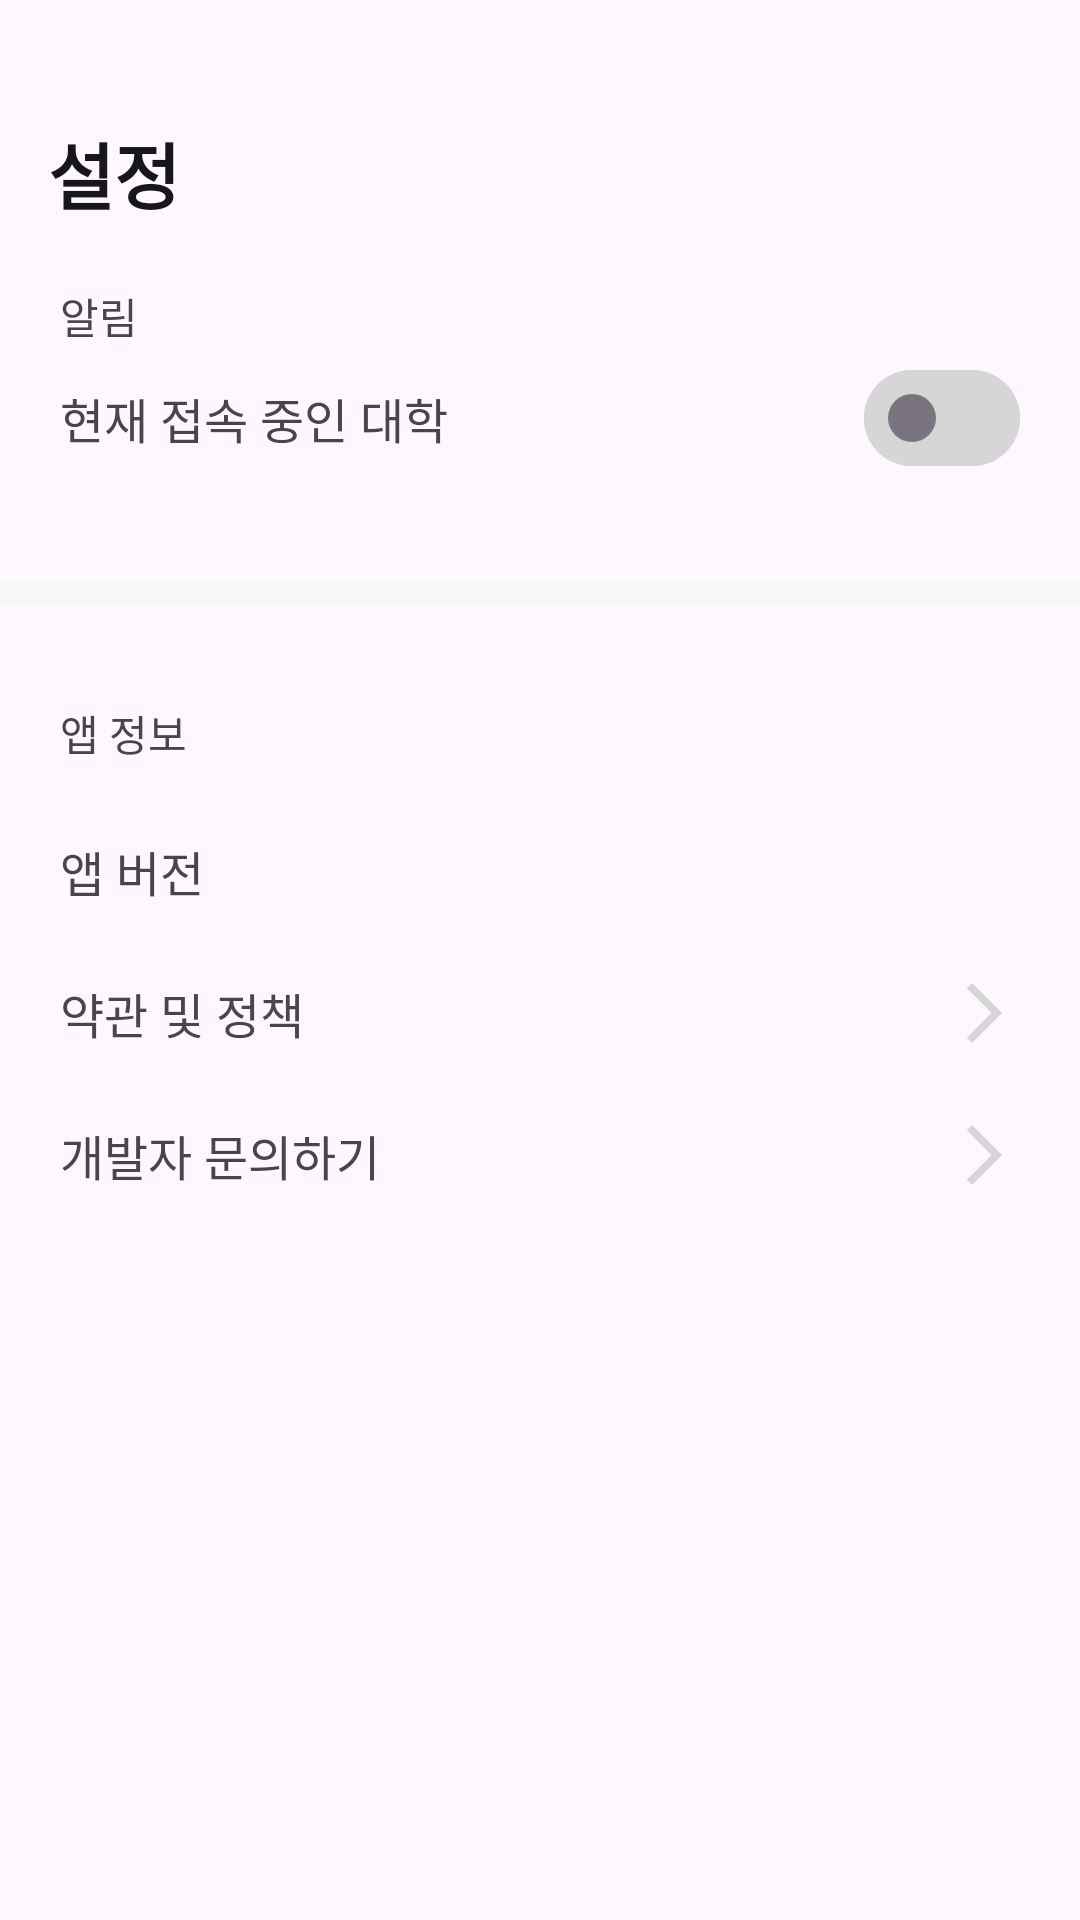

Icons on this 1080×1920 Android screen, each with the point to tap as (x=x, y=y):
이동: (x=984, y=1013), (x=984, y=1155)
